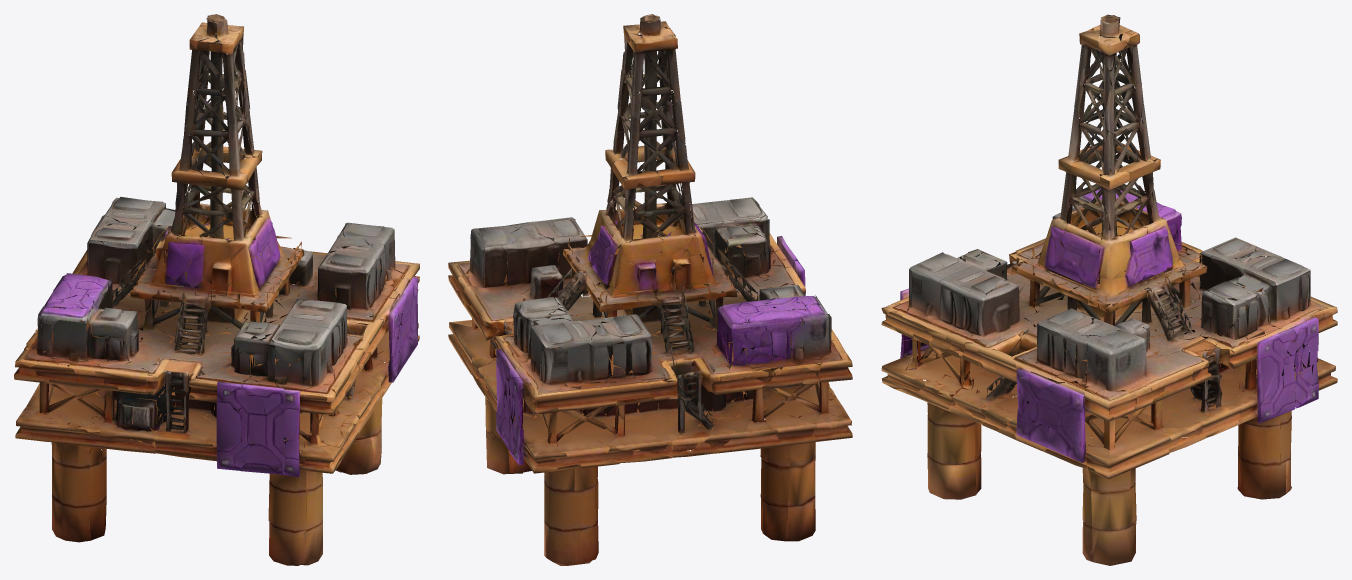
File: mars_drill_rig.glb
The picture shows the model from 3 angles, left to right: view 1: azimuth 30°, elevation 25°; view 2: azimuth 150°, elevation 25°; view 3: azimuth 270°, elevation 25°; orthographic projection. The views are drawn at different scales.
Visible parts, largest first — view 1: mars_drill_rig; view 2: mars_drill_rig; view 3: mars_drill_rig.
Boxes of the visible parts, bbox=[...] form: mars_drill_rig: bbox=[14, 14, 419, 565]; mars_drill_rig: bbox=[448, 14, 852, 565]; mars_drill_rig: bbox=[881, 14, 1337, 565].
Bounding box in the file's own units: 28.28 × 32.03 × 28.14.
Materials: 1 (1 with a texture image).
